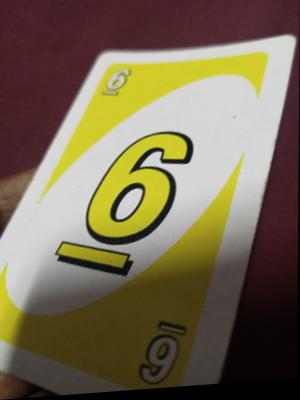num_6: (57, 131, 200, 309)
yellow: (97, 61, 156, 127)
